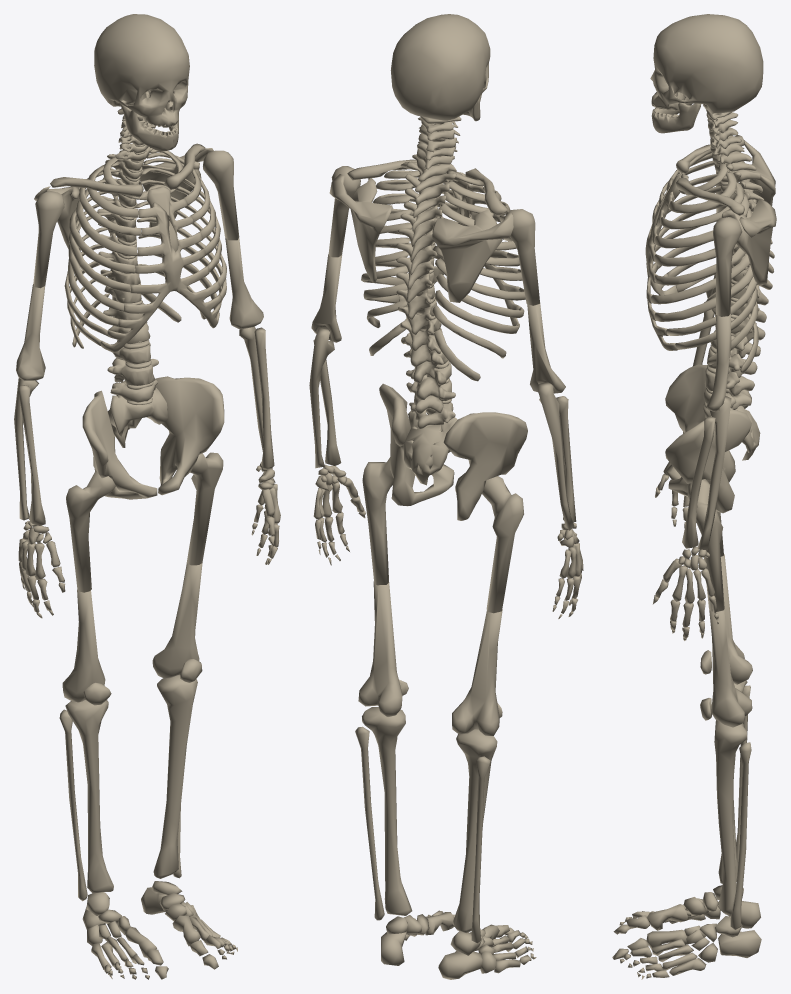
The model's file is pediatric_adolescent_female.skeletal.LOD2.glb.
The picture shows the model from 3 angles, left to right: view 1: azimuth 30°, elevation 25°; view 2: azimuth 150°, elevation 25°; view 3: azimuth 270°, elevation 25°; orthographic projection. The views are drawn at different scales.
Parts seen in each view (by area): view 1: PEDIATRIC.ADOLESCENT.FEMALE.SKELETAL.RIBS_CORTICAL, PEDIATRIC.ADOLESCENT.FEMALE.SKELETAL.CRANIUM_CORTICAL, PEDIATRIC.ADOLESCENT.FEMALE.SKELETAL.PELVIS_CORTICAL, PEDIATRIC.ADOLESCENT.FEMALE.SKELETAL.TIBIAE_CORTICAL, PEDIATRIC.ADOLESCENT.FEMALE.SKELETAL.CARTILAGE_TRUNK, PEDIATRIC.ADOLESCENT.FEMALE.SKELETAL.ANKLES_AND_FOOT_CORTICA, PEDIATRIC.ADOLESCENT.FEMALE.SKELETAL.FEMORA_LOWER_CORTICAL, PEDIATRIC.ADOLESCENT.FEMALE.SKELETAL.FEMORA_UPPER_CORTICAL, PEDIATRIC.ADOLESCENT.FEMALE.SKELETAL.WRISTS_AND_HAND_BONES_C, PEDIATRIC.ADOLESCENT.FEMALE.SKELETAL.HUMERI_UPPER_CORTICAL, PEDIATRIC.ADOLESCENT.FEMALE.SKELETAL.HUMERI_LOWER_CORTICAL, PEDIATRIC.ADOLESCENT.FEMALE.SKELETAL.RADII_CORTICAL (+11 smaller); view 2: PEDIATRIC.ADOLESCENT.FEMALE.SKELETAL.RIBS_CORTICAL, PEDIATRIC.ADOLESCENT.FEMALE.SKELETAL.CRANIUM_CORTICAL, PEDIATRIC.ADOLESCENT.FEMALE.SKELETAL.PELVIS_CORTICAL, PEDIATRIC.ADOLESCENT.FEMALE.SKELETAL.TIBIAE_CORTICAL, PEDIATRIC.ADOLESCENT.FEMALE.SKELETAL.SCAPULAE_CORTICAL, PEDIATRIC.ADOLESCENT.FEMALE.SKELETAL.FEMORA_LOWER_CORTICAL, PEDIATRIC.ADOLESCENT.FEMALE.SKELETAL.THORACIC_SPINE_CORTICAL, PEDIATRIC.ADOLESCENT.FEMALE.SKELETAL.FEMORA_UPPER_CORTICAL, PEDIATRIC.ADOLESCENT.FEMALE.SKELETAL.ANKLES_AND_FOOT_CORTICA, PEDIATRIC.ADOLESCENT.FEMALE.SKELETAL.WRISTS_AND_HAND_BONES_C, PEDIATRIC.ADOLESCENT.FEMALE.SKELETAL.LUMBAR_SPINE_CORTICAL, PEDIATRIC.ADOLESCENT.FEMALE.SKELETAL.ULNAE_CORTICAL (+8 smaller); view 3: PEDIATRIC.ADOLESCENT.FEMALE.SKELETAL.RIBS_CORTICAL, PEDIATRIC.ADOLESCENT.FEMALE.SKELETAL.CRANIUM_CORTICAL, PEDIATRIC.ADOLESCENT.FEMALE.SKELETAL.ANKLES_AND_FOOT_CORTICA, PEDIATRIC.ADOLESCENT.FEMALE.SKELETAL.PELVIS_CORTICAL, PEDIATRIC.ADOLESCENT.FEMALE.SKELETAL.FEMORA_LOWER_CORTICAL, PEDIATRIC.ADOLESCENT.FEMALE.SKELETAL.TIBIAE_CORTICAL, PEDIATRIC.ADOLESCENT.FEMALE.SKELETAL.WRISTS_AND_HAND_BONES_C, PEDIATRIC.ADOLESCENT.FEMALE.SKELETAL.SCAPULAE_CORTICAL, PEDIATRIC.ADOLESCENT.FEMALE.SKELETAL.LUMBAR_SPINE_CORTICAL, PEDIATRIC.ADOLESCENT.FEMALE.SKELETAL.CARTILAGE_TRUNK, PEDIATRIC.ADOLESCENT.FEMALE.SKELETAL.FIBULAE_CORTICAL, PEDIATRIC.ADOLESCENT.FEMALE.SKELETAL.HUMERI_UPPER_CORTICAL (+10 smaller).
Boxes of the visible parts, x1,y1,x2,y2 form: PEDIATRIC.ADOLESCENT.FEMALE.SKELETAL.RIBS_CORTICAL: (64,149,226,348); PEDIATRIC.ADOLESCENT.FEMALE.SKELETAL.CRANIUM_CORTICAL: (94,14,189,127); PEDIATRIC.ADOLESCENT.FEMALE.SKELETAL.PELVIS_CORTICAL: (82,376,224,499); PEDIATRIC.ADOLESCENT.FEMALE.SKELETAL.TIBIAE_CORTICAL: (65,675,197,893); PEDIATRIC.ADOLESCENT.FEMALE.SKELETAL.CARTILAGE_TRUNK: (100,120,221,404); PEDIATRIC.ADOLESCENT.FEMALE.SKELETAL.ANKLES_AND_FOOT_CORTICA: (82,881,237,979); PEDIATRIC.ADOLESCENT.FEMALE.SKELETAL.FEMORA_LOWER_CORTICAL: (62,563,202,702); PEDIATRIC.ADOLESCENT.FEMALE.SKELETAL.FEMORA_UPPER_CORTICAL: (66,452,223,592); PEDIATRIC.ADOLESCENT.FEMALE.SKELETAL.WRISTS_AND_HAND_BONES_C: (18,462,280,618); PEDIATRIC.ADOLESCENT.FEMALE.SKELETAL.HUMERI_UPPER_CORTICAL: (33,150,239,288); PEDIATRIC.ADOLESCENT.FEMALE.SKELETAL.HUMERI_LOWER_CORTICAL: (16,238,263,380); PEDIATRIC.ADOLESCENT.FEMALE.SKELETAL.RADII_CORTICAL: (19,327,274,525); PEDIATRIC.ADOLESCENT.FEMALE.SKELETAL.RIBS_CORTICAL: (361,161,525,381); PEDIATRIC.ADOLESCENT.FEMALE.SKELETAL.CRANIUM_CORTICAL: (390,14,490,120); PEDIATRIC.ADOLESCENT.FEMALE.SKELETAL.PELVIS_CORTICAL: (379,383,527,520); PEDIATRIC.ADOLESCENT.FEMALE.SKELETAL.TIBIAE_CORTICAL: (362,707,497,932); PEDIATRIC.ADOLESCENT.FEMALE.SKELETAL.SCAPULAE_CORTICAL: (329,174,513,302); PEDIATRIC.ADOLESCENT.FEMALE.SKELETAL.FEMORA_LOWER_CORTICAL: (358,581,502,735); PEDIATRIC.ADOLESCENT.FEMALE.SKELETAL.THORACIC_SPINE_CORTICAL: (396,161,456,350); PEDIATRIC.ADOLESCENT.FEMALE.SKELETAL.FEMORA_UPPER_CORTICAL: (362,457,523,613); PEDIATRIC.ADOLESCENT.FEMALE.SKELETAL.ANKLES_AND_FOOT_CORTICA: (381,910,536,979); PEDIATRIC.ADOLESCENT.FEMALE.SKELETAL.WRISTS_AND_HAND_BONES_C: (313,464,583,618); PEDIATRIC.ADOLESCENT.FEMALE.SKELETAL.LUMBAR_SPINE_CORTICAL: (401,328,455,428); PEDIATRIC.ADOLESCENT.FEMALE.SKELETAL.ULNAE_CORTICAL: (309,327,574,530); PEDIATRIC.ADOLESCENT.FEMALE.SKELETAL.RIBS_CORTICAL: (651,149,758,373); PEDIATRIC.ADOLESCENT.FEMALE.SKELETAL.CRANIUM_CORTICAL: (650,14,763,114); PEDIATRIC.ADOLESCENT.FEMALE.SKELETAL.ANKLES_AND_FOOT_CORTICA: (612,883,761,979); PEDIATRIC.ADOLESCENT.FEMALE.SKELETAL.PELVIS_CORTICAL: (665,364,751,513); PEDIATRIC.ADOLESCENT.FEMALE.SKELETAL.FEMORA_LOWER_CORTICAL: (709,554,752,727); PEDIATRIC.ADOLESCENT.FEMALE.SKELETAL.TIBIAE_CORTICAL: (714,680,747,914); PEDIATRIC.ADOLESCENT.FEMALE.SKELETAL.WRISTS_AND_HAND_BONES_C: (652,462,718,640); PEDIATRIC.ADOLESCENT.FEMALE.SKELETAL.SCAPULAE_CORTICAL: (721,140,776,285); PEDIATRIC.ADOLESCENT.FEMALE.SKELETAL.LUMBAR_SPINE_CORTICAL: (703,316,765,409); PEDIATRIC.ADOLESCENT.FEMALE.SKELETAL.CARTILAGE_TRUNK: (645,119,747,408); PEDIATRIC.ADOLESCENT.FEMALE.SKELETAL.FIBULAE_CORTICAL: (730,685,751,930); PEDIATRIC.ADOLESCENT.FEMALE.SKELETAL.HUMERI_UPPER_CORTICAL: (713,135,742,316).
Size of the model in its own units: 0.4583 by 1.6 by 0.2557.
